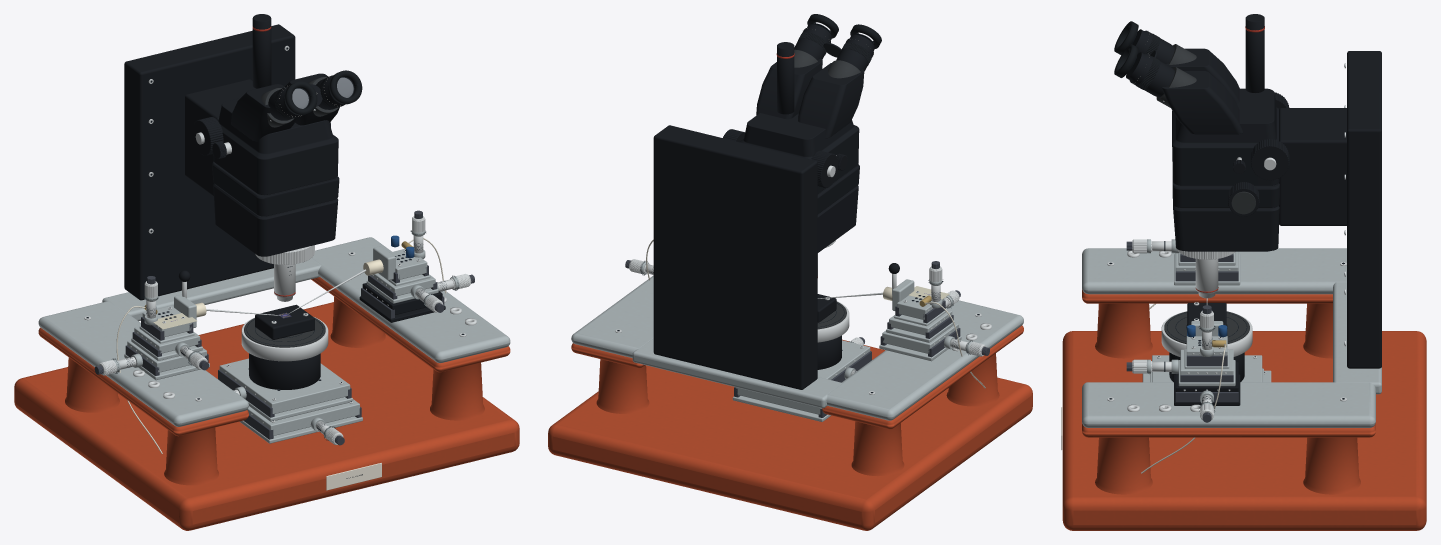
3 renders of one model, left to right at view 1: azimuth 30°, elevation 25°; view 2: azimuth 150°, elevation 25°; view 3: azimuth 270°, elevation 25°, orthographic. The views are drawn at different scales.
Visible parts, largest first — view 1: base__orange, base__black, optic_focus__black, base__brushed, chuck_y__brushed, chuck_x__brushed, chuck_y__black, optic_focus__steel, optic_focus__rubber, chuck_theta__black, chuck_theta__steel, right_z__brushed (+10 smaller); view 2: base__orange, base__black, base__brushed, optic_focus__black, optic_focus__rubber, left_x__brushed, left_z__brushed, left_y__brushed, chuck_y__brushed, optic_focus__graphite, chuck_x__brushed, chuck_y__black; view 3: base__orange, optic_focus__black, base__brushed, base__black, optic_focus__steel, optic_focus__rubber, optic_focus__graphite, chuck_theta__graphite, base__darkmetal, chuck_y__brushed, chuck_theta__steel, right_y__brushed (+7 smaller).
Part boxes in pixels (<box>): base__orange: <box>14,277,519,530</box>; base__black: <box>124,24,445,322</box>; optic_focus__black: <box>185,14,354,256</box>; base__brushed: <box>38,237,510,443</box>; chuck_y__brushed: <box>219,358,350,413</box>; chuck_x__brushed: <box>235,386,359,435</box>; chuck_y__black: <box>249,353,320,389</box>; optic_focus__steel: <box>195,109,315,301</box>; optic_focus__rubber: <box>274,70,362,118</box>; chuck_theta__black: <box>255,304,314,339</box>; chuck_theta__steel: <box>241,313,328,361</box>; right_z__brushed: <box>373,246,427,280</box>; base__orange: <box>548,325,1032,530</box>; base__black: <box>653,125,817,389</box>; base__brushed: <box>571,275,1023,421</box>; optic_focus__black: <box>723,24,874,252</box>; optic_focus__rubber: <box>798,14,881,65</box>; left_x__brushed: <box>882,321,958,353</box>; left_z__brushed: <box>892,279,944,319</box>; left_y__brushed: <box>889,299,952,335</box>; chuck_y__brushed: <box>817,340,870,379</box>; optic_focus__graphite: <box>794,49,860,78</box>; chuck_x__brushed: <box>735,367,855,414</box>; chuck_y__black: <box>817,335,841,369</box>; base__orange: <box>1062,289,1426,530</box>; optic_focus__black: <box>1126,14,1346,251</box>; base__brushed: <box>1082,248,1381,427</box>; base__black: <box>1174,51,1381,405</box>; optic_focus__steel: <box>1163,100,1276,298</box>; optic_focus__rubber: <box>1114,21,1160,89</box>; optic_focus__graphite: <box>1156,44,1255,214</box>; chuck_theta__graphite: <box>1164,311,1249,343</box>; base__darkmetal: <box>1175,271,1238,401</box>; chuck_y__brushed: <box>1152,355,1262,382</box>; chuck_theta__steel: <box>1161,302,1252,356</box>; right_y__brushed: <box>1180,346,1233,374</box>.
Bounding box in the file's own units: 0.521 × 0.542 × 0.4176.
Materials: 21 (16 with a texture image).
